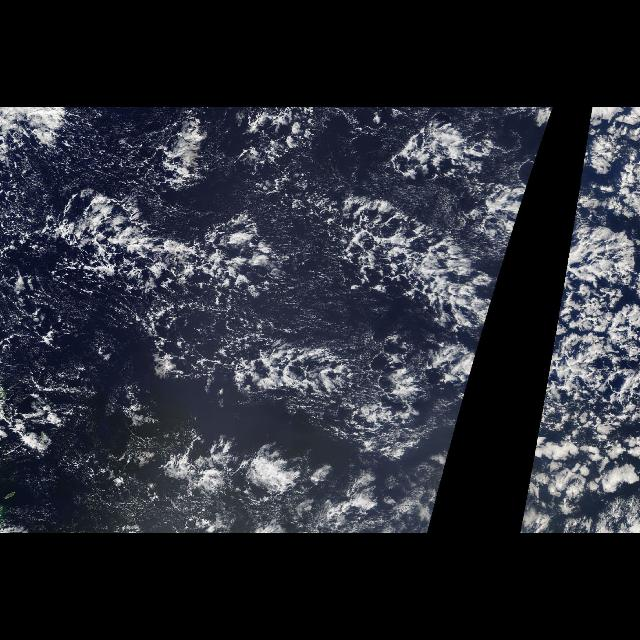Fish: (51, 176, 480, 532)
